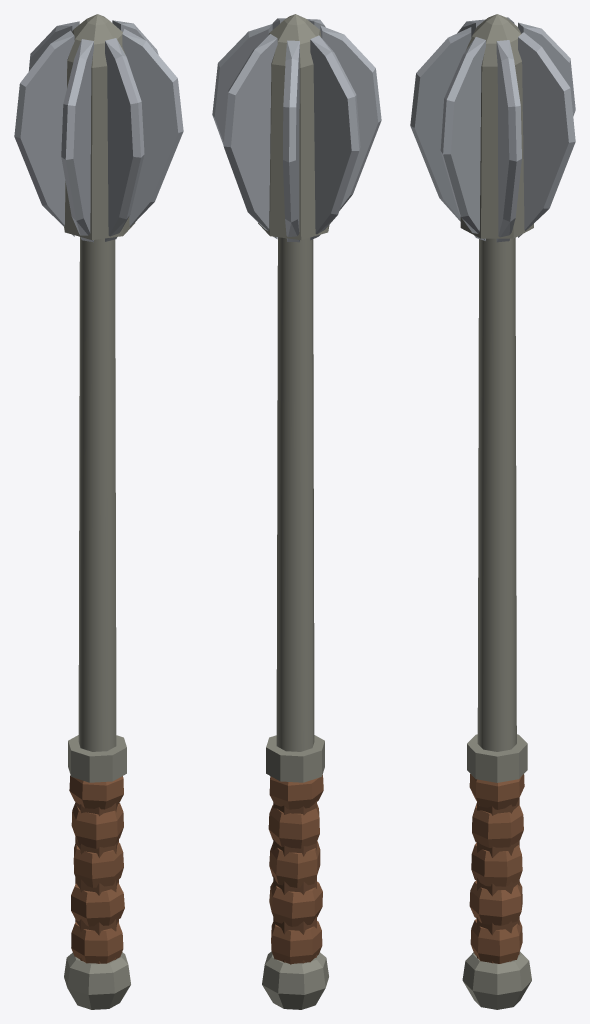
The model's file is mace.glb.
3 views of the same model, side by side, from view 1: azimuth 30°, elevation 25°; view 2: azimuth 150°, elevation 25°; view 3: azimuth 270°, elevation 25° (orthographic).
Parts seen in each view (by area): view 1: mace; view 2: mace; view 3: mace.
Boxes of the visible parts, <box> form: mace: <box>14,14,183,1009</box>; mace: <box>212,14,381,1009</box>; mace: <box>410,14,575,1009</box>.
Size of the model in its own units: 0.117 by 0.75 by 0.1141.
